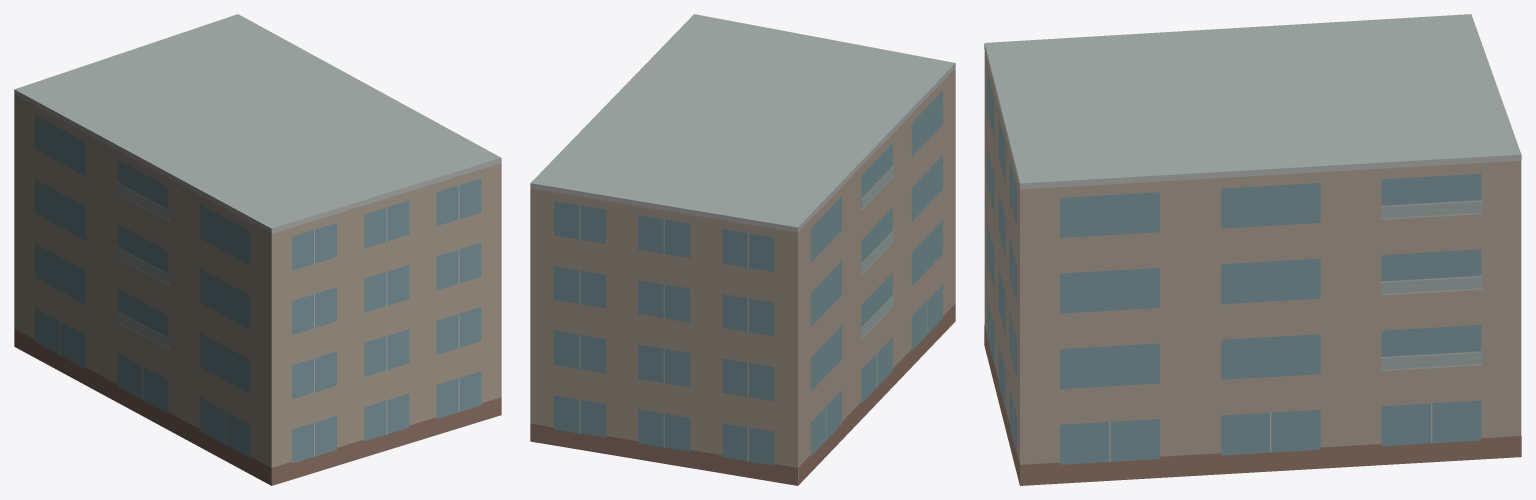
The model's file is survey-upis-32819585.glb.
3 renders of one model, left to right at view 1: azimuth 30°, elevation 25°; view 2: azimuth 150°, elevation 25°; view 3: azimuth 270°, elevation 25°, orthographic. The views are drawn at different scales.
Parts seen in each view (by area): view 1: survey-upis-32819585.tmp; view 2: survey-upis-32819585.tmp; view 3: survey-upis-32819585.tmp.
Boxes of the visible parts, <box> form: survey-upis-32819585.tmp: <box>14,14,501,485</box>; survey-upis-32819585.tmp: <box>530,14,955,485</box>; survey-upis-32819585.tmp: <box>984,14,1521,485</box>.
Size of the model in its own units: 14.67 by 12.2 by 19.65.
